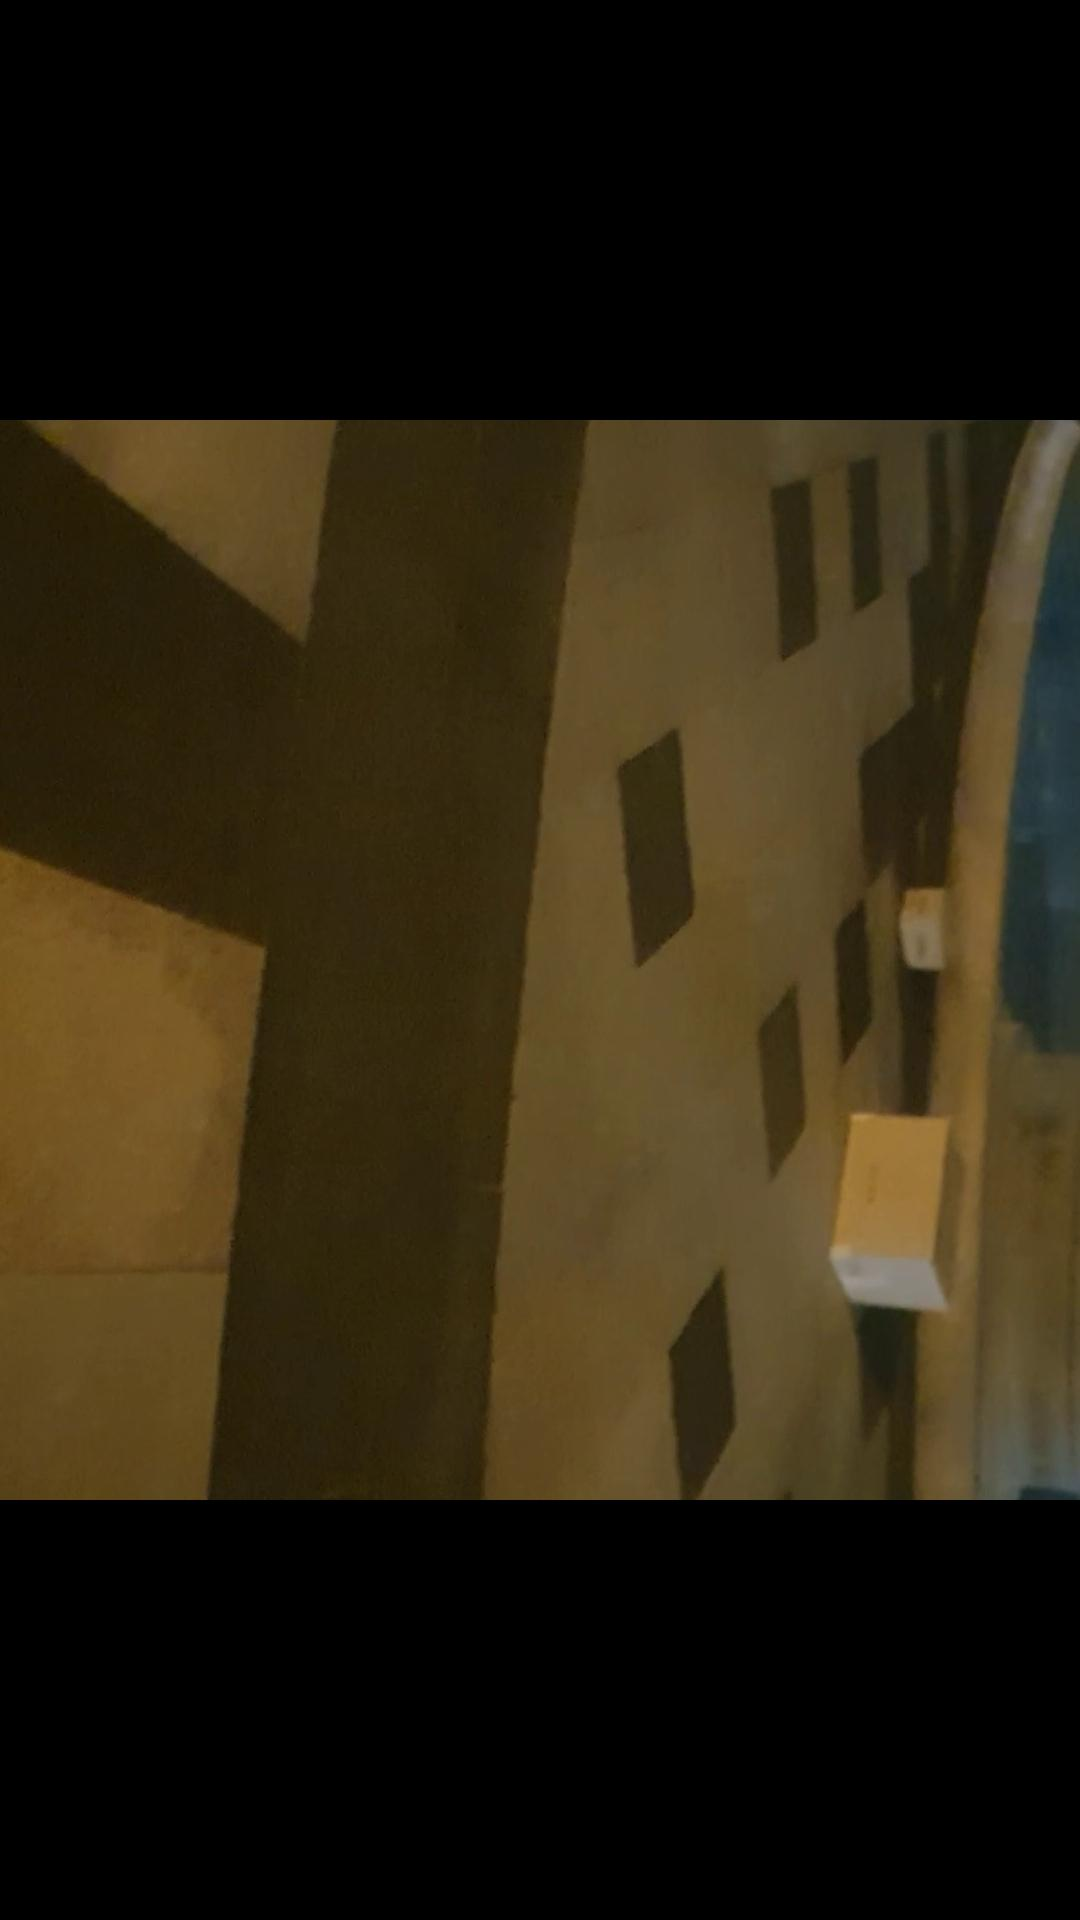Box: (808, 1102, 975, 1313), (885, 873, 971, 977)
